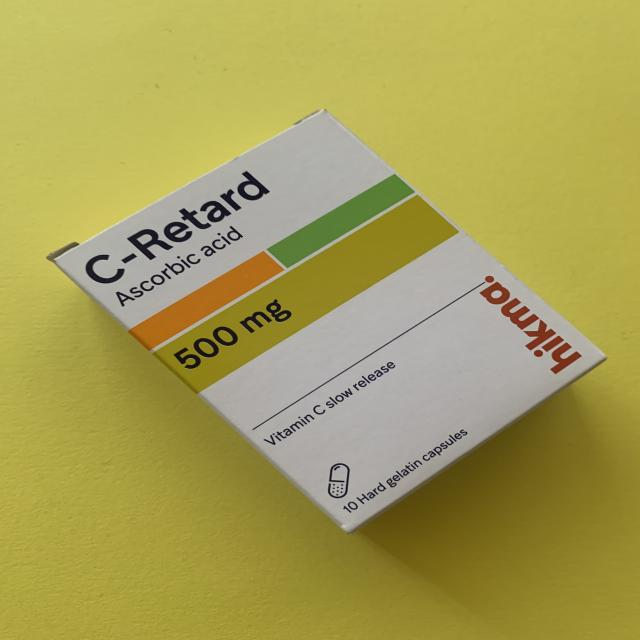C-Retard: (47, 110, 612, 539)
